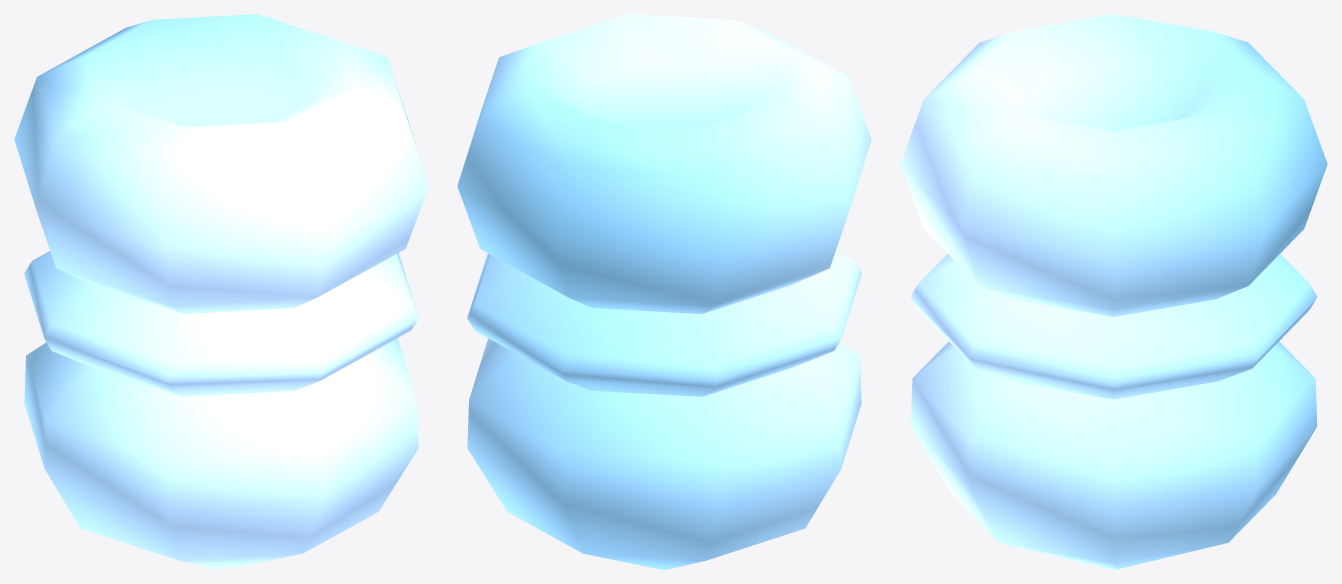
Rendered from steel_pommel_073.glb.
3 views of the same model, side by side, from view 1: azimuth 30°, elevation 25°; view 2: azimuth 150°, elevation 25°; view 3: azimuth 270°, elevation 25° (orthographic).
Parts seen in each view (by area): view 1: steel_pommel_073; view 2: steel_pommel_073; view 3: steel_pommel_073.
Part boxes in pixels (box(x1,y1,x2,y2)): steel_pommel_073: box(14, 14, 428, 569); steel_pommel_073: box(457, 14, 871, 569); steel_pommel_073: box(900, 14, 1327, 569).
Bounding box in the file's own units: 1.83 × 2.34 × 1.83.
Materials: 1 (1 with a texture image).
